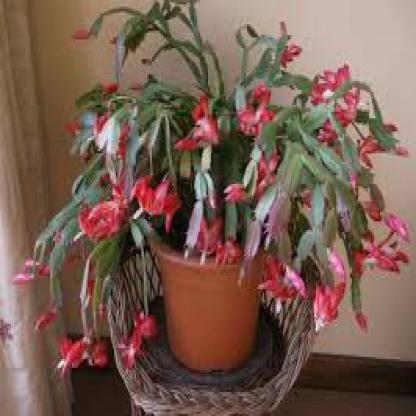Aglonema: (15, 55, 413, 292)
